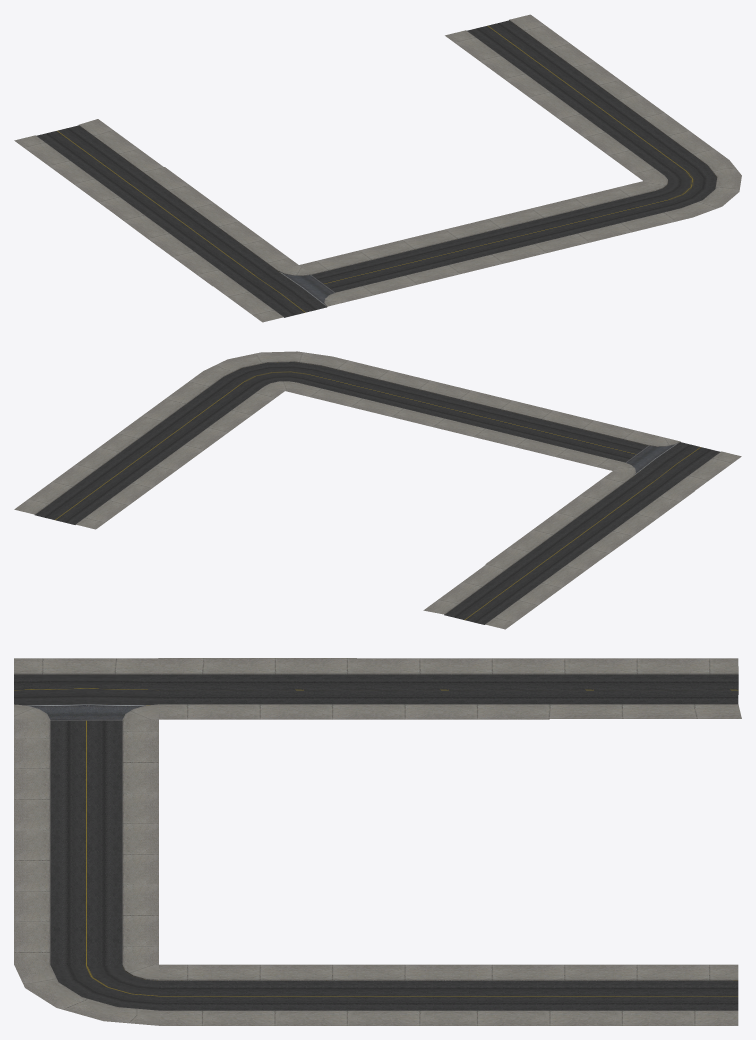
Rendered from vgswindustroad07.obj.
3 renders of one model, top to bottom at view 1: azimuth 30°, elevation 25°; view 2: azimuth 150°, elevation 25°; view 3: azimuth 270°, elevation 25°, orthographic. The views are drawn at different scales.
Parts seen in each view (by area): view 1: vgswindustroad07; view 2: vgswindustroad07; view 3: vgswindustroad07.
Boxes of the visible parts, <box> form: vgswindustroad07: <box>14,14,741,322</box>; vgswindustroad07: <box>14,351,741,629</box>; vgswindustroad07: <box>14,658,741,1025</box>.
Bounding box in the file's own units: 120 × 0.2216 × 100.
4 materials, 4 textured.
